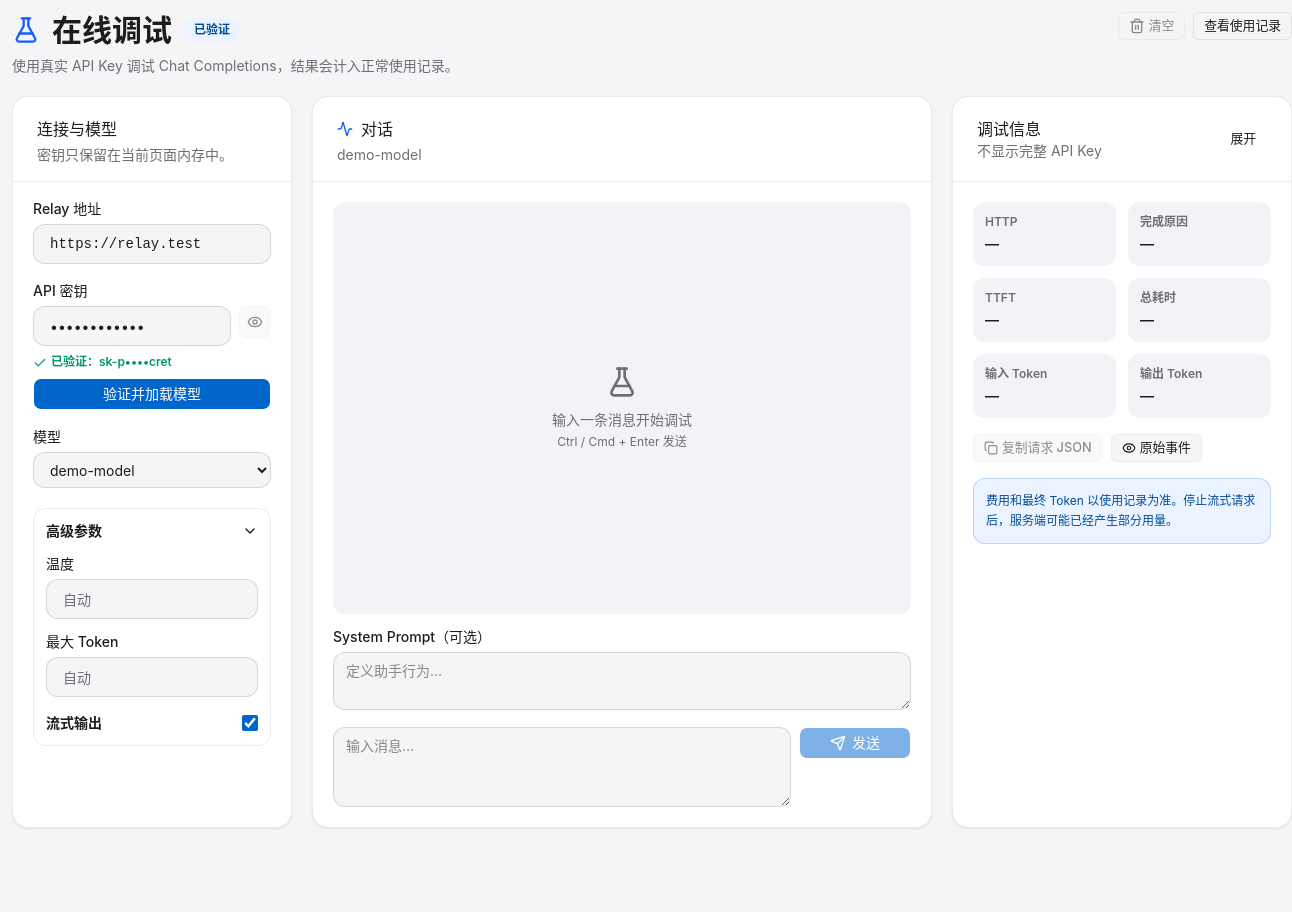
Test case: PlaygroundPage › guards simultaneous shortcut and click submissions before React renders
This screenshot has width=1292, height=912.
Expected: the text "已验证：sk-p••••cret" is shown, top-left (33, 354), bottom-right (172, 370)
Type "one billable request" into the text box labelled "输入消息" at (562, 767), box top-left (333, 727), bottom-right (791, 807)
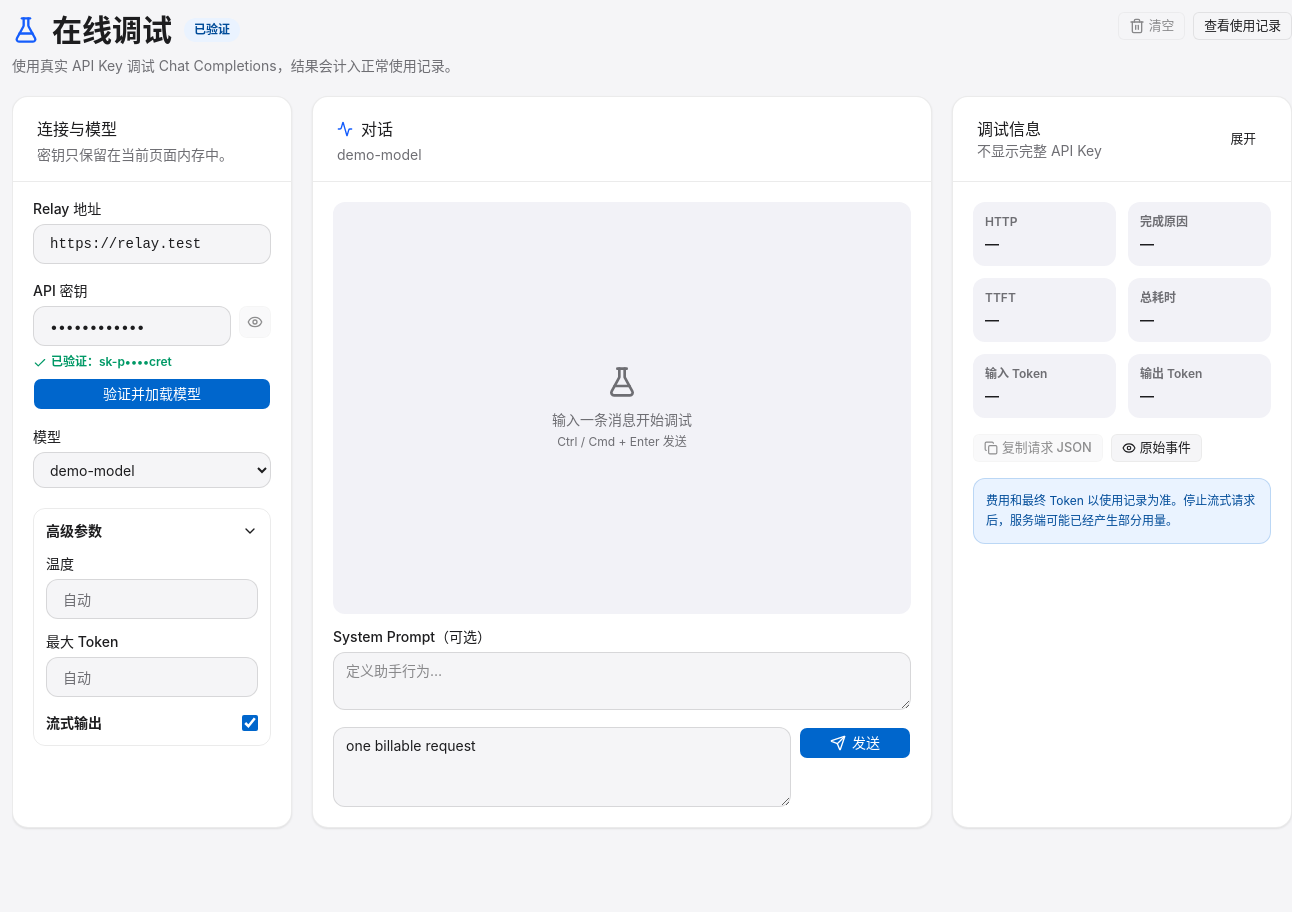
Press Enter in the text box named "输入消息", box top-left (333, 727), bottom-right (791, 807)
Click the button "发送" at (855, 743), box top-left (799, 727), bottom-right (911, 759)
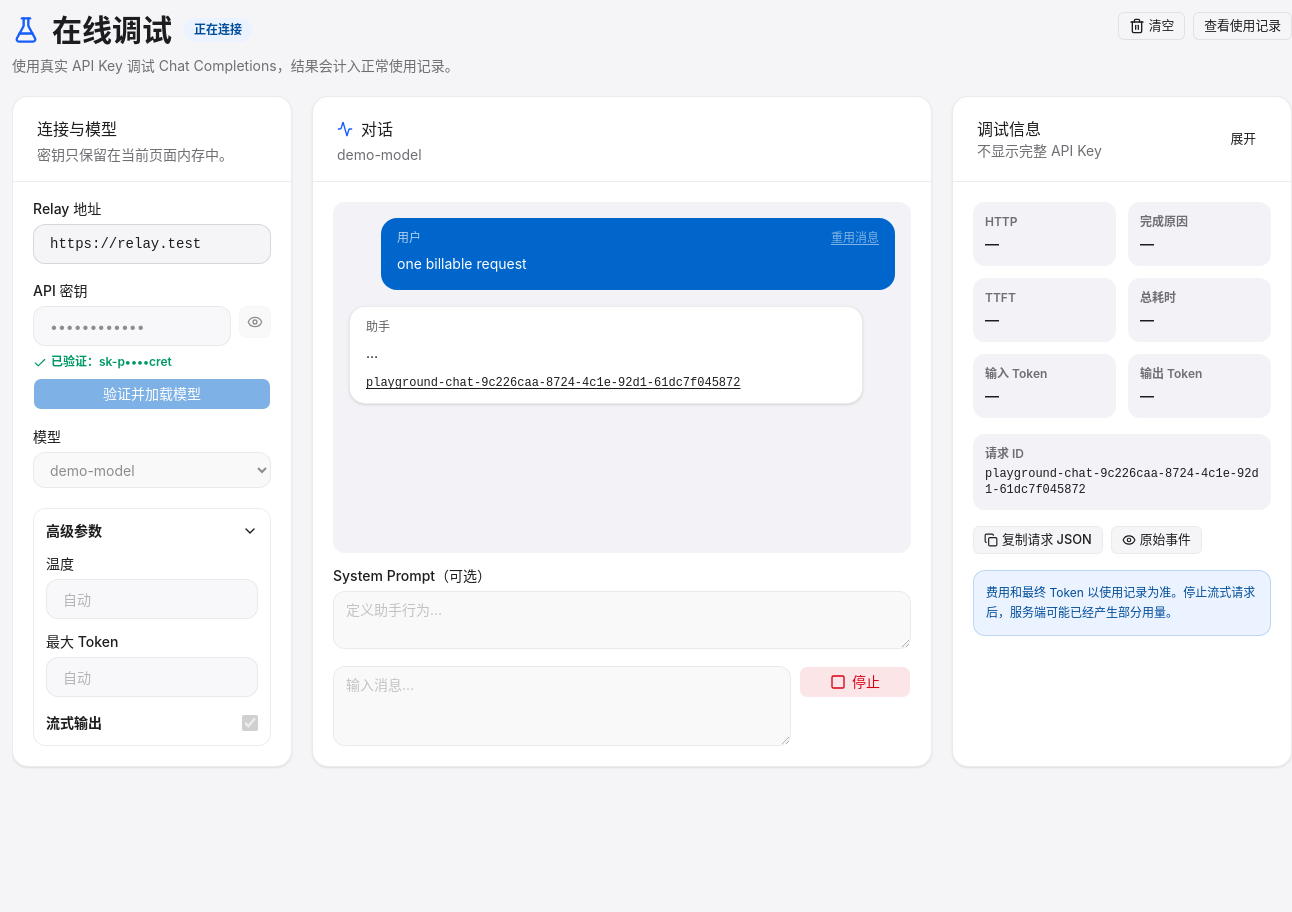
Expected: the button "重用消息" is disabled, top-left (831, 230), bottom-right (879, 246)
